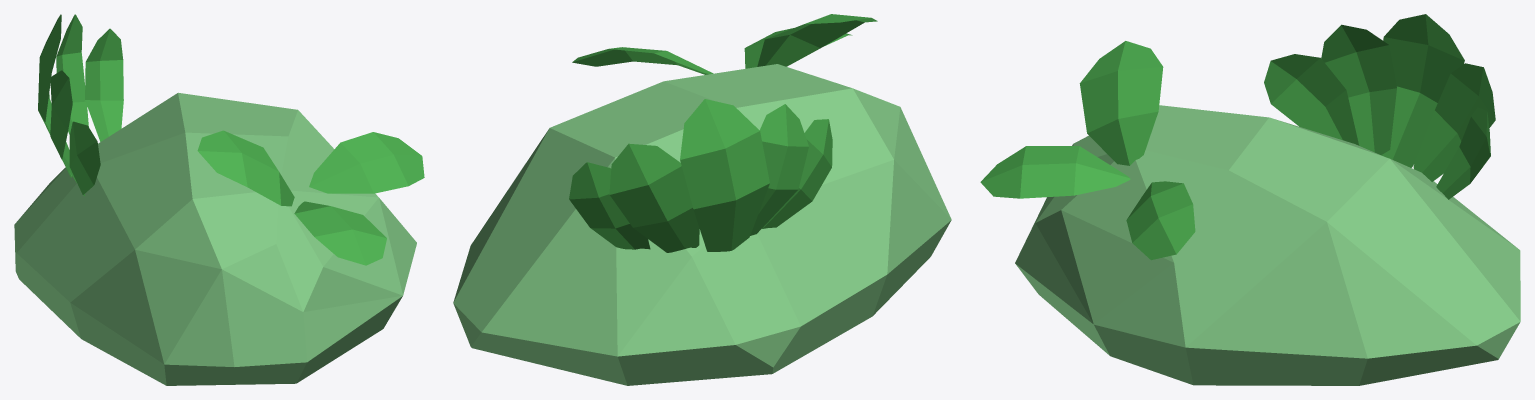
The model's file is Tree_046.glb.
3 renders of one model, left to right at view 1: azimuth 30°, elevation 25°; view 2: azimuth 150°, elevation 25°; view 3: azimuth 270°, elevation 25°, orthographic. The views are drawn at different scales.
Parts seen in each view (by area): view 1: Tree_046; view 2: Tree_046; view 3: Tree_046.
Part boxes in pixels (bbox=[...]): Tree_046: bbox=[14, 14, 424, 385]; Tree_046: bbox=[453, 14, 951, 385]; Tree_046: bbox=[980, 14, 1520, 385].
Bounding box in the file's own units: 1.61 × 1.18 × 2.26.
Materials: 1 (1 with a texture image).
